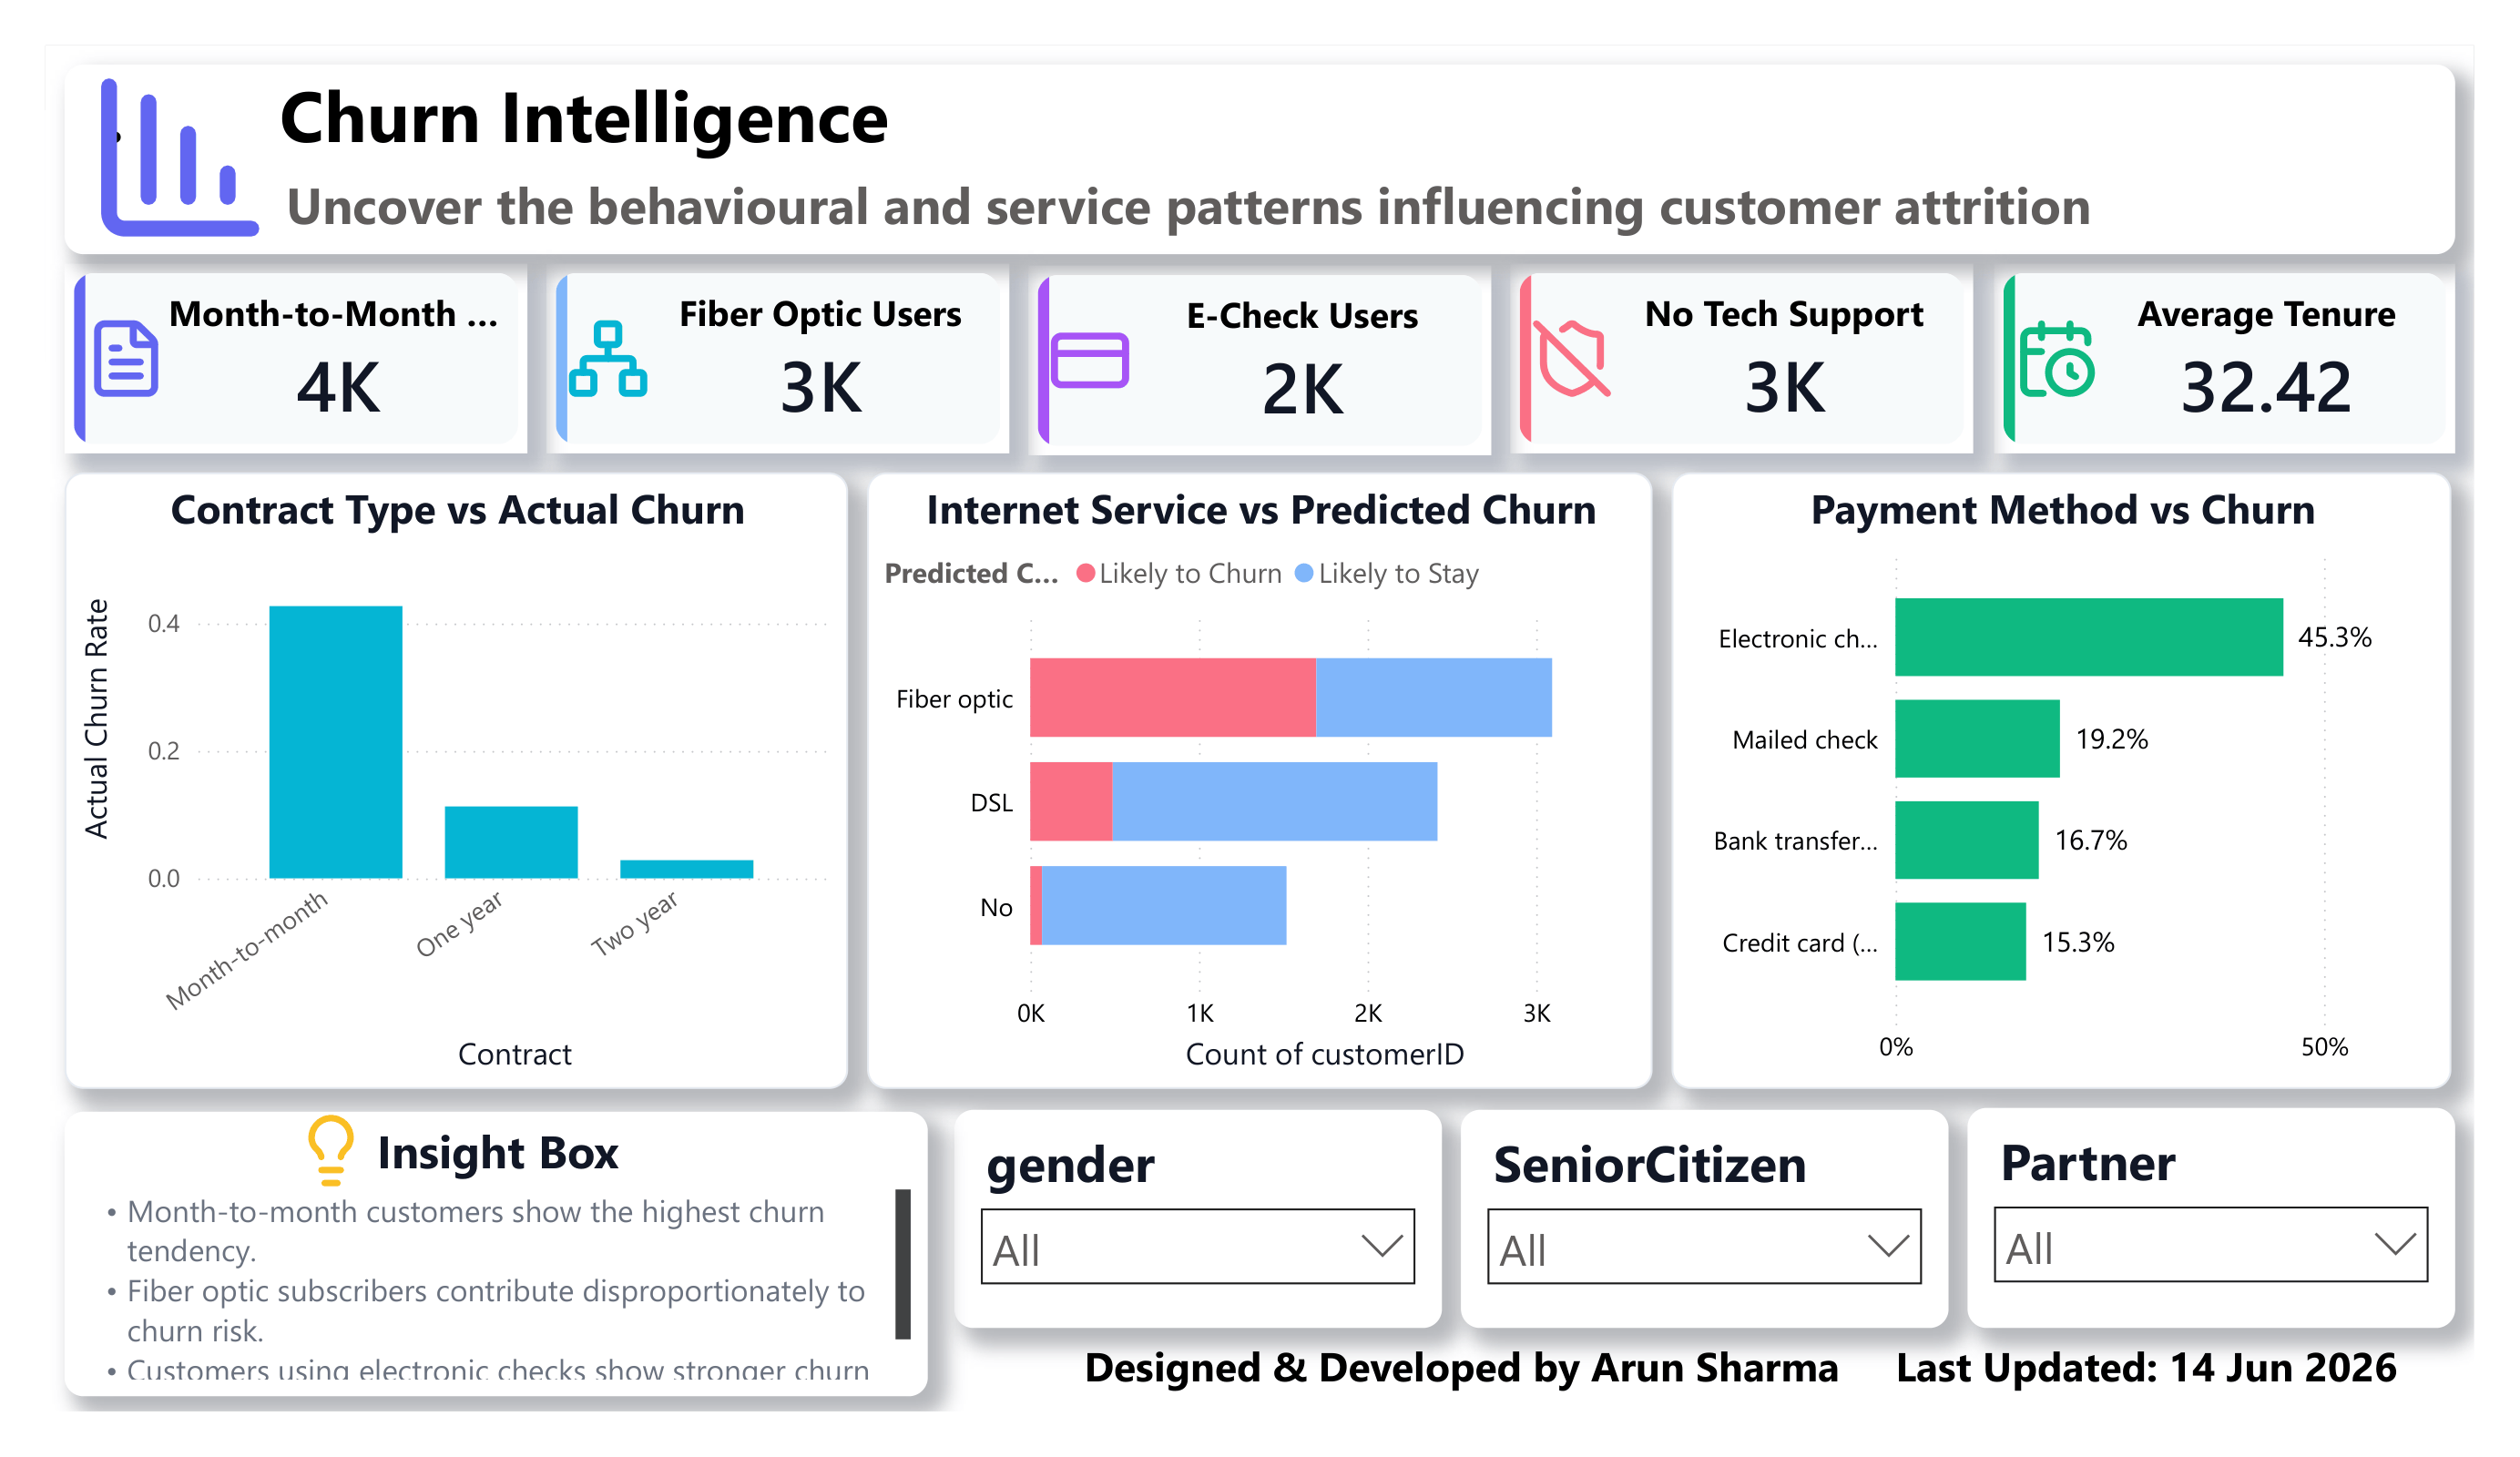

This screenshot's page, from the dashboard's own definition file:
{"tool":"powerbi","page":{"name":"Churn Analytics","canvas":[1280,720],"ordinal":1},"visuals":[{"type":"group","id":"g1","title":"Group 1","box":[10,9.4,1260,100.6],"z":0},{"type":"textbox","title":".        Churn Intelligence","box":[10,10,1260,100],"z":0,"group":"g1"},{"type":"image","box":[10.9,9.4,120,100],"z":1000,"group":"g1"},{"type":"cardVisual","fields":{"Data":["Measures_Table.Month-to-Month Customers"]},"box":[10,115,244,100],"z":1000},{"type":"cardVisual","fields":{"Data":["Measures_Table.Fiber Optic Users"]},"box":[264,115,244,100],"z":2000},{"type":"cardVisual","fields":{"Data":["Measures_Table.E-Check Users"]},"box":[518,116,244,100],"z":3000},{"type":"cardVisual","fields":{"Data":["Measures_Table.No Tech Support"]},"box":[772,115,244,100],"z":4000},{"type":"cardVisual","fields":{"Data":["Measures_Table.Average Tenure"]},"box":[1026.7,115,243.3,100],"z":5000},{"type":"clusteredColumnChart","title":"Contract Type vs Actual Churn","fields":{"Category":["Telco_Customer_Predictions.Contract"],"Y":["Measures_Table.Actual Churn Rate"]},"box":[10,225,413.3,325],"z":6000},{"type":"barChart","title":"Internet Service vs Predicted Churn","fields":{"Y":["CountNonNull(Telco_Customer_Predictions.customerID)"],"Category":["Telco_Customer_Predictions.InternetService"],"Series":["Telco_Customer_Predictions.Predicted Churn Status"]},"box":[433.3,225,413.3,325],"z":7000},{"type":"clusteredBarChart","title":"Payment Method vs Churn","fields":{"Y":["Measures_Table.Actual Churn Rate"],"Category":["Telco_Customer_Predictions.PaymentMethod"]},"box":[856.7,225,411.7,325],"z":8000},{"type":"slicer","fields":{"Values":["Telco_Customer_Predictions.gender"]},"box":[478.6,561.4,257.1,114.3],"z":9000},{"type":"slicer","fields":{"Values":["Telco_Customer_Predictions.SeniorCitizen"]},"box":[745.7,561.4,257.1,114.3],"z":10000},{"type":"slicer","fields":{"Values":["Telco_Customer_Predictions.Partner"]},"box":[1012.9,560,257.1,115.7],"z":11000},{"type":"textbox","title":"Insight Box","box":[10,561.7,455,150],"z":12000},{"type":"image","box":[118.3,561.7,65,41.7],"z":13000},{"type":"textbox","box":[478.6,675.7,801.4,44.3],"z":14000}]}

Visuals, with their boxes on the page's 1280x720 design canvas (x1, y1, x2, y2). These are canvas units, not pixel positions in the 2520x1457 screenshot, which may show the page scaled, cropped or inside an application window:
"Group 1" group: <region>10, 9, 1270, 110</region>
".        Churn Intelligence" textbox: <region>10, 10, 1270, 110</region>
image: <region>11, 9, 131, 109</region>
cardVisual - Measures_Table.Month-to-Month Customers: <region>10, 115, 254, 215</region>
cardVisual - Measures_Table.Fiber Optic Users: <region>264, 115, 508, 215</region>
cardVisual - Measures_Table.E-Check Users: <region>518, 116, 762, 216</region>
cardVisual - Measures_Table.No Tech Support: <region>772, 115, 1016, 215</region>
cardVisual - Measures_Table.Average Tenure: <region>1027, 115, 1270, 215</region>
"Contract Type vs Actual Churn" clusteredColumnChart: <region>10, 225, 423, 550</region>
"Internet Service vs Predicted Churn" barChart: <region>433, 225, 847, 550</region>
"Payment Method vs Churn" clusteredBarChart: <region>857, 225, 1268, 550</region>
slicer - Telco_Customer_Predictions.gender: <region>479, 561, 736, 676</region>
slicer - Telco_Customer_Predictions.SeniorCitizen: <region>746, 561, 1003, 676</region>
slicer - Telco_Customer_Predictions.Partner: <region>1013, 560, 1270, 676</region>
"Insight Box" textbox: <region>10, 562, 465, 712</region>
image: <region>118, 562, 183, 603</region>
textbox: <region>479, 676, 1280, 720</region>
